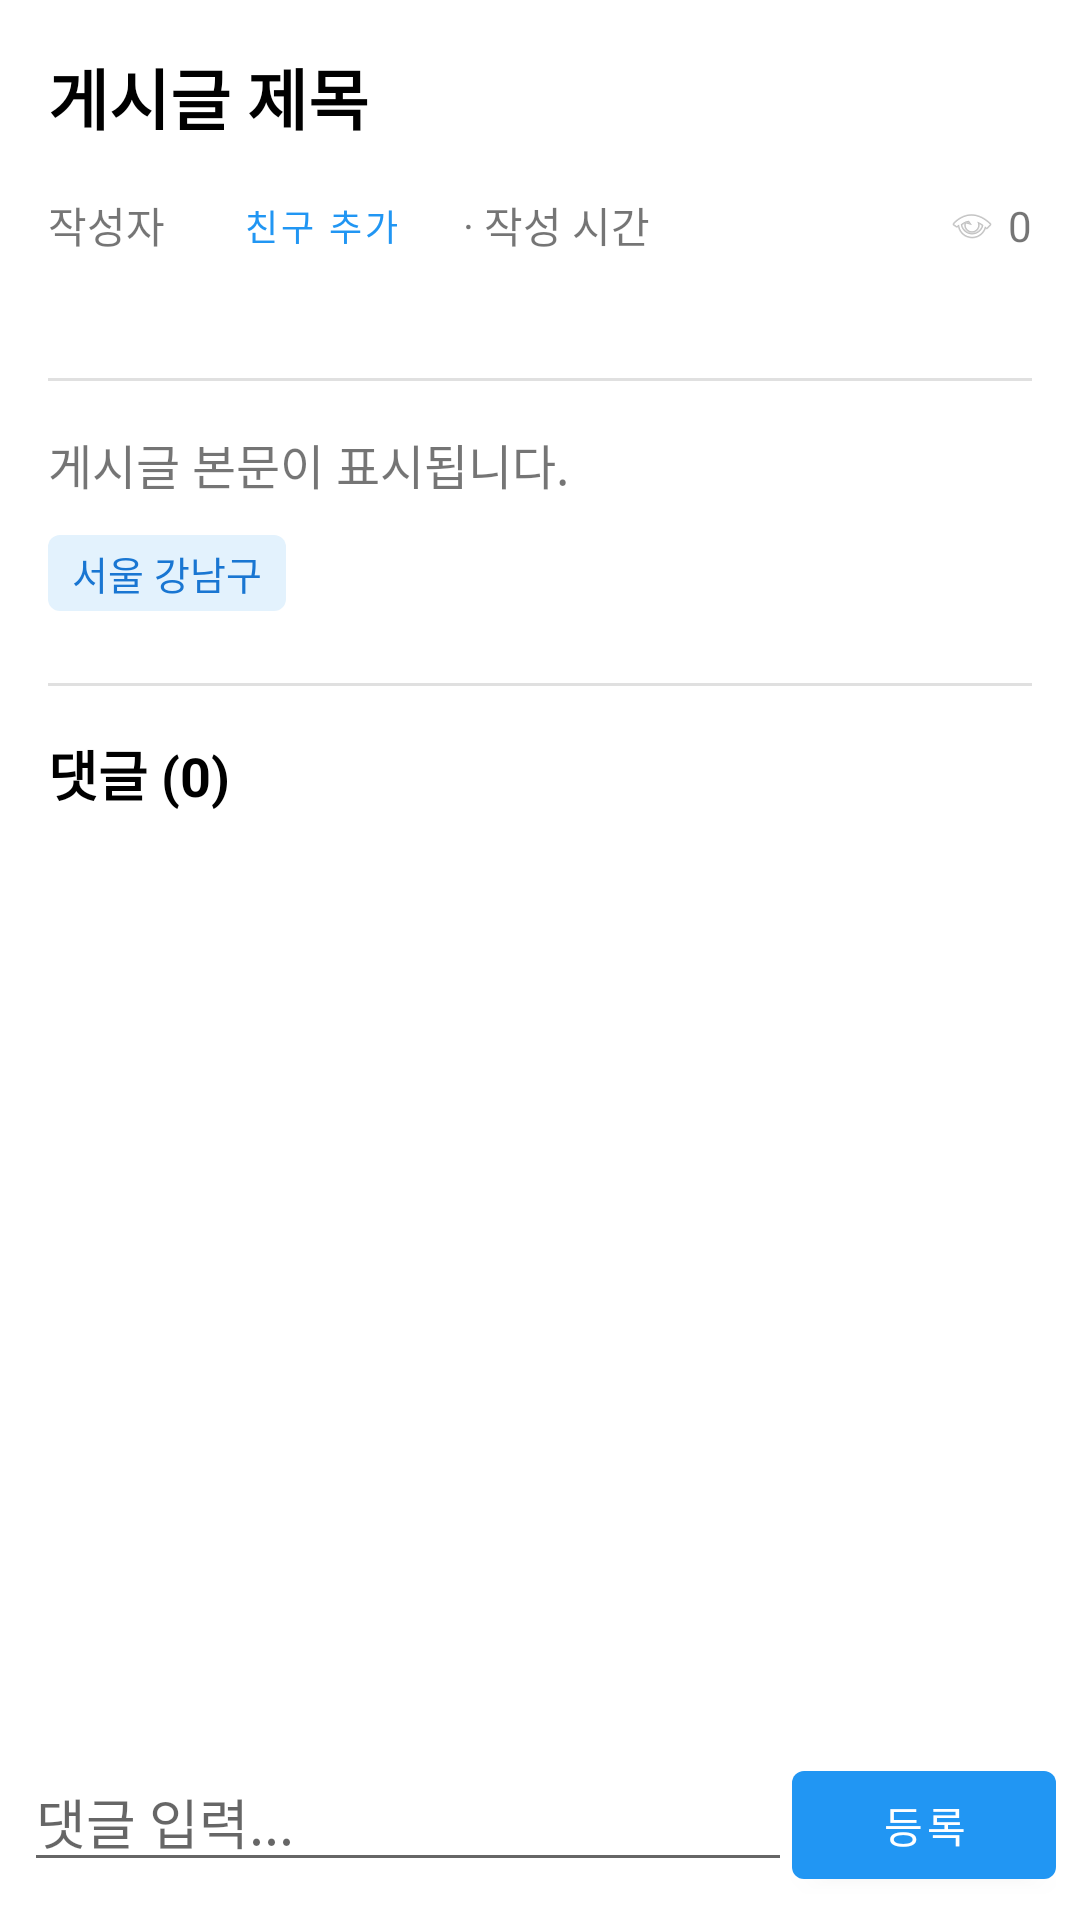

Where to tap for icons on this 1080x1920 app screen, as (x=x, y=y):
view: (x=972, y=226)
